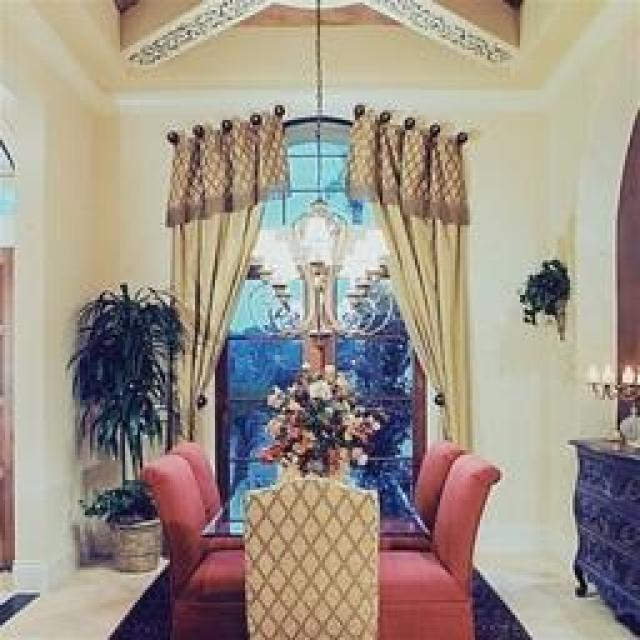cupboard: (565, 432, 637, 638)
curtains: (345, 105, 470, 450), (162, 105, 288, 447)
door: (0, 242, 15, 572)
lamps: (244, 0, 397, 372)
plant: (65, 280, 190, 572)
plants: (518, 258, 570, 340)
rugs: (95, 550, 540, 638)
windows: (210, 113, 428, 535)
